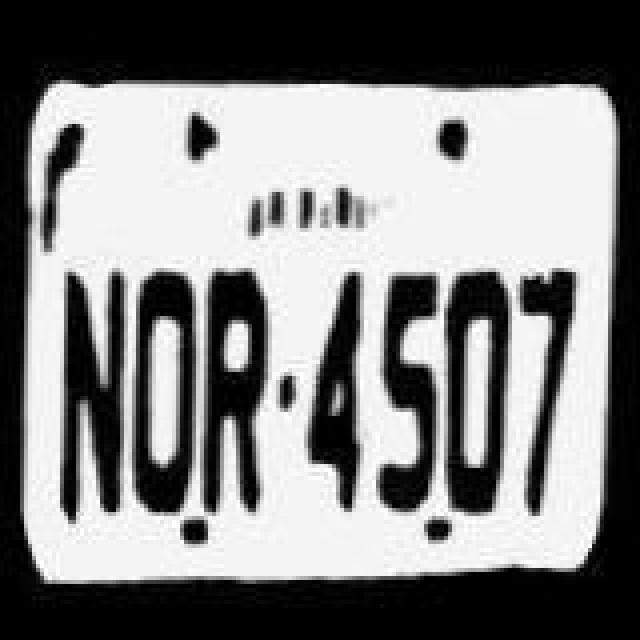4: (302, 272, 378, 512)
5: (370, 252, 446, 520)
7: (516, 246, 580, 530)
N: (50, 262, 134, 530)
O: (124, 268, 204, 512), (440, 254, 512, 518)
R: (198, 268, 282, 520)
